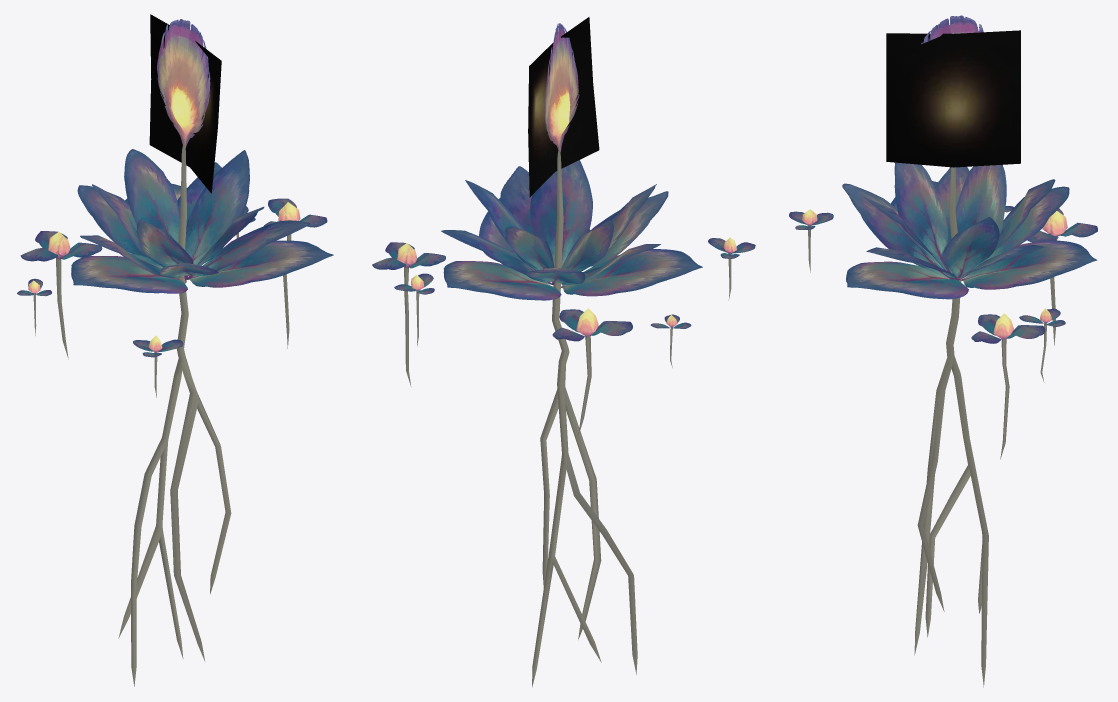
3 views of the same model, side by side, from view 1: azimuth 30°, elevation 25°; view 2: azimuth 150°, elevation 25°; view 3: azimuth 270°, elevation 25° (orthographic). The views are drawn at different scales.
Size of the model in its own units: 3.45 by 6.97 by 3.01.
Materials: 2 (2 with a texture image).
